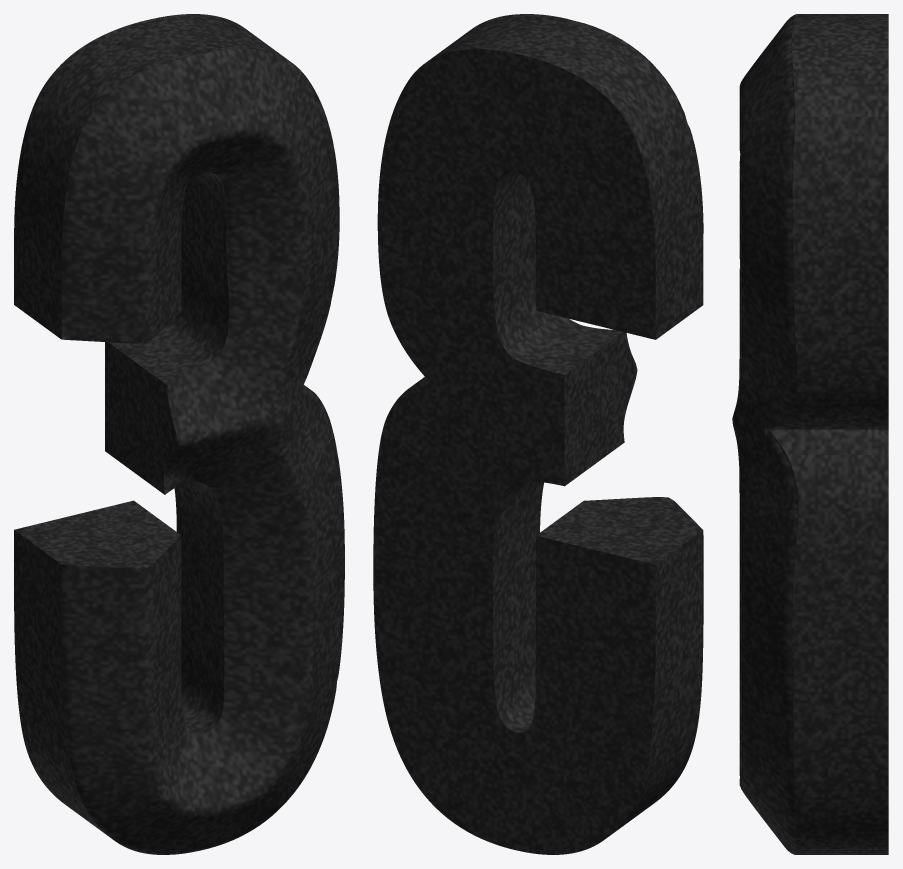
The model's file is digit-3.glb.
3 views of the same model, side by side, from view 1: azimuth 30°, elevation 25°; view 2: azimuth 150°, elevation 25°; view 3: azimuth 270°, elevation 25° (orthographic).
Visible parts, largest first — view 1: Glyph 3; view 2: Glyph 3; view 3: Glyph 3.
Boxes of the visible parts, <box> form: Glyph 3: <box>14,14,344,854</box>; Glyph 3: <box>373,14,703,854</box>; Glyph 3: <box>732,14,888,854</box>.
Bounding box in the file's own units: 1.38 × 3.71 × 0.6584.
1 material, 1 textured.
